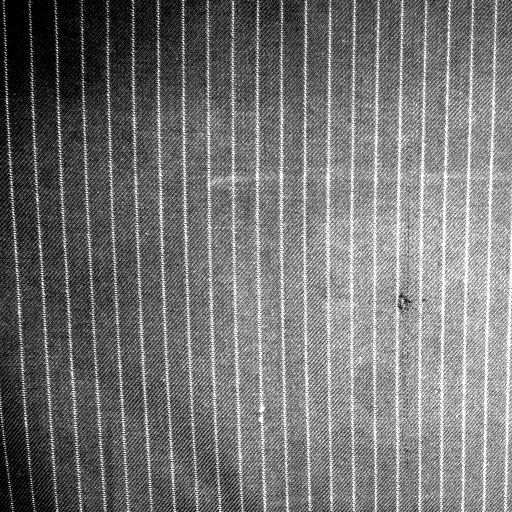fabric_hole: (392, 294, 424, 318)
